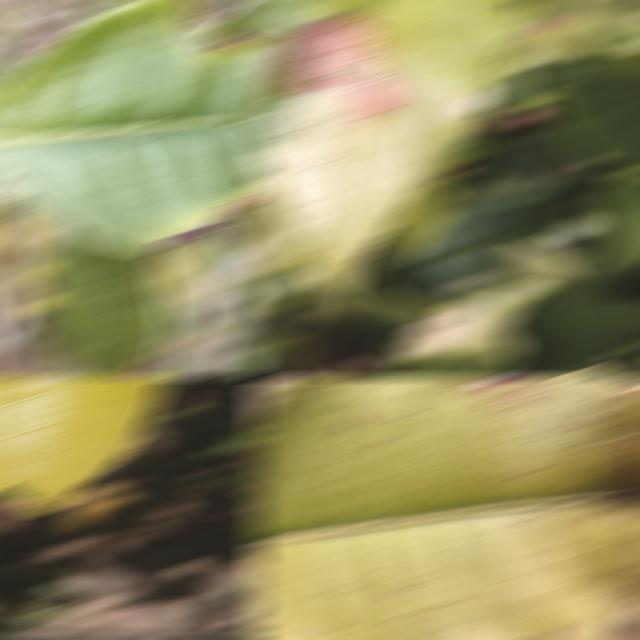Leaf: (249, 379, 640, 638), (249, 2, 524, 300), (0, 2, 263, 250), (371, 161, 569, 299), (0, 379, 167, 510), (41, 231, 170, 375), (525, 19, 640, 160), (501, 240, 634, 359), (389, 283, 551, 375), (499, 2, 640, 73), (384, 178, 457, 264), (249, 179, 310, 276), (592, 166, 640, 262)
